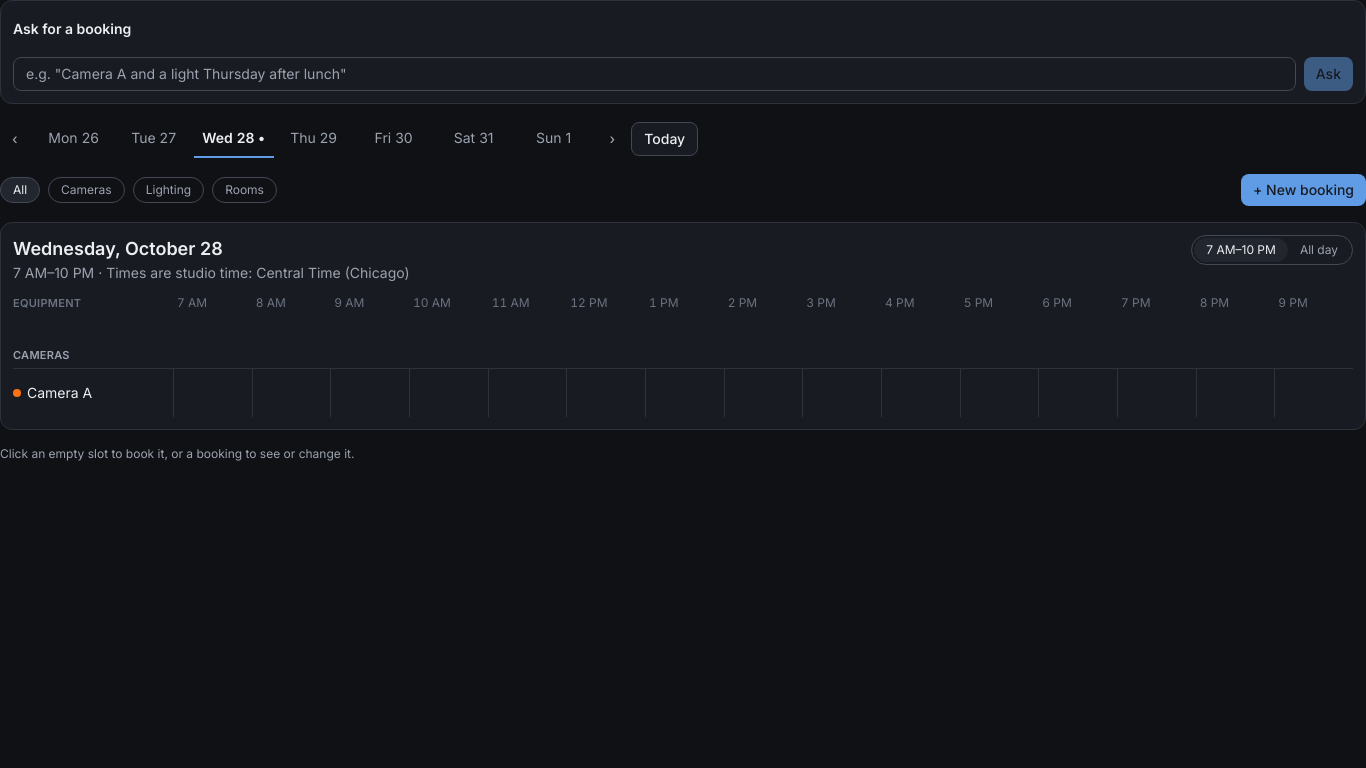
AssistantPanel › records what was booked in the conversation, and drops the button
The image size is (1366, 768).
Type "Camera A Thursday 1 to 3 for an interview" into the field named "Ask the booking assistant" at (654, 74), box [13,57,1296,91]
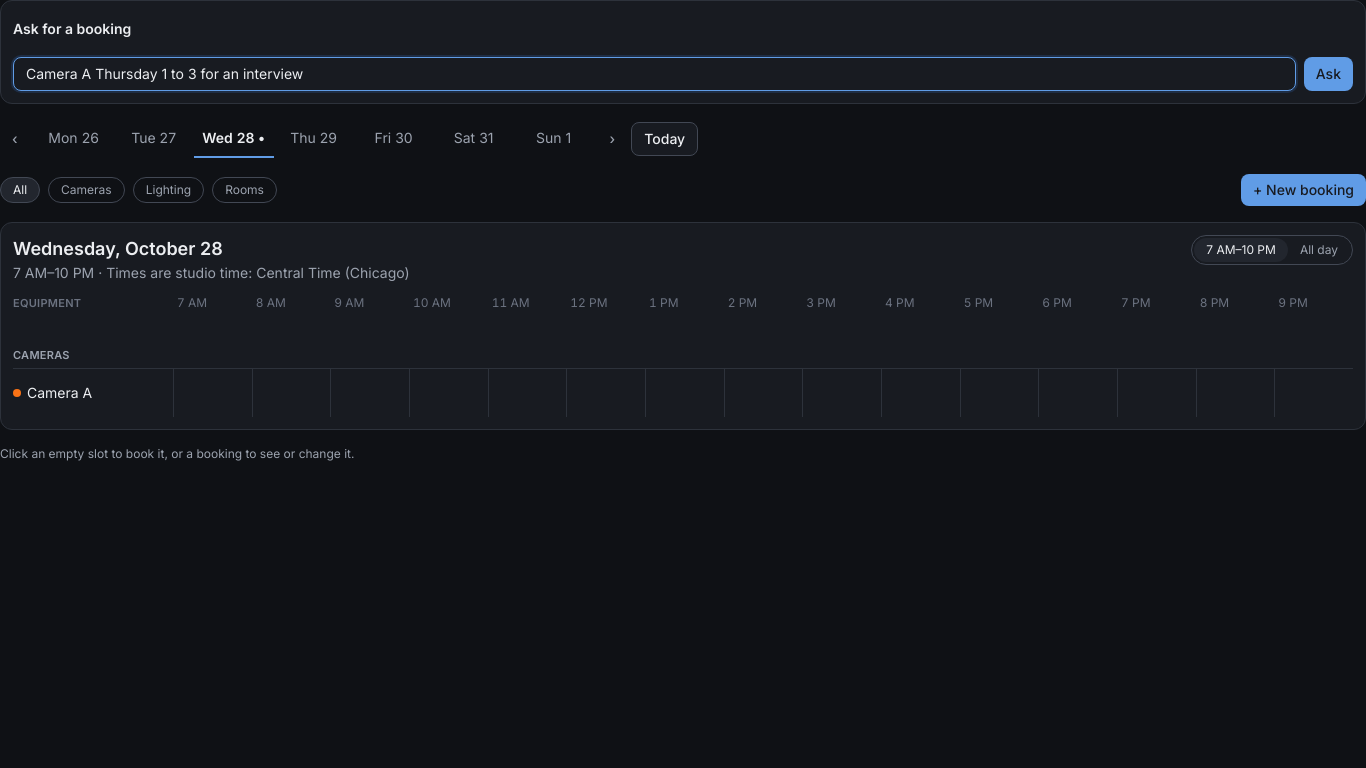
Click the button "Ask" at (1328, 74), box [1304,57,1353,91]
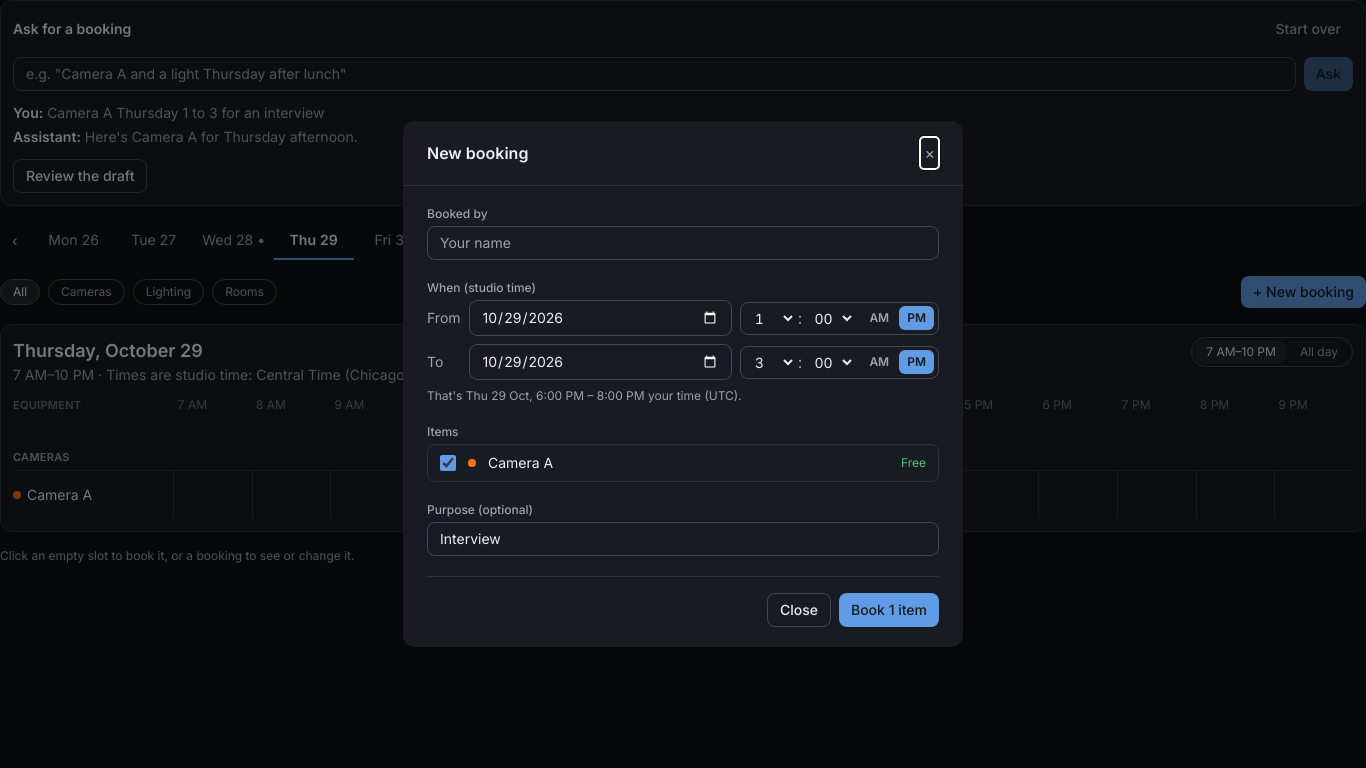
Type "Sam K" into the field named "Booked by" at (683, 243), box [427,226,939,260]
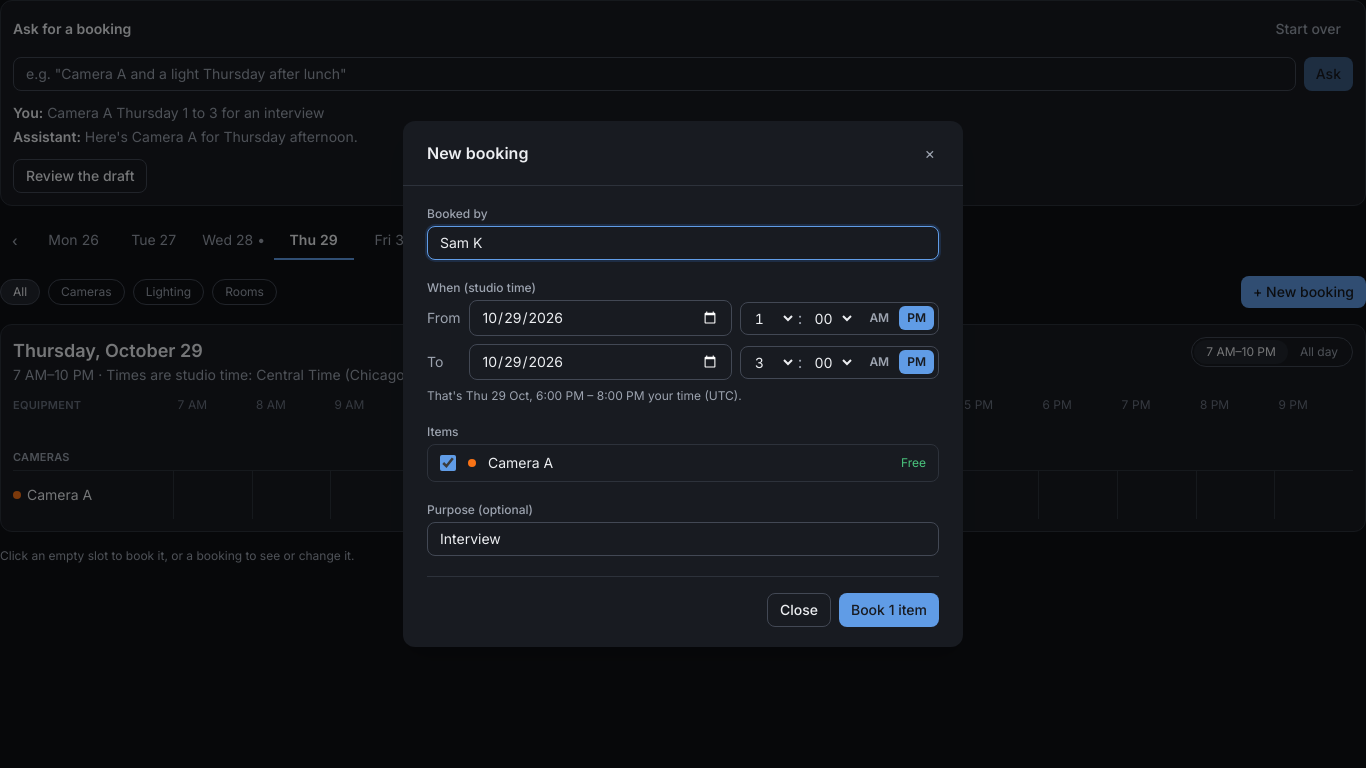
Replace the text in the field named "Purpose" with "Interview with Ana" at (683, 539), box [427,522,939,556]
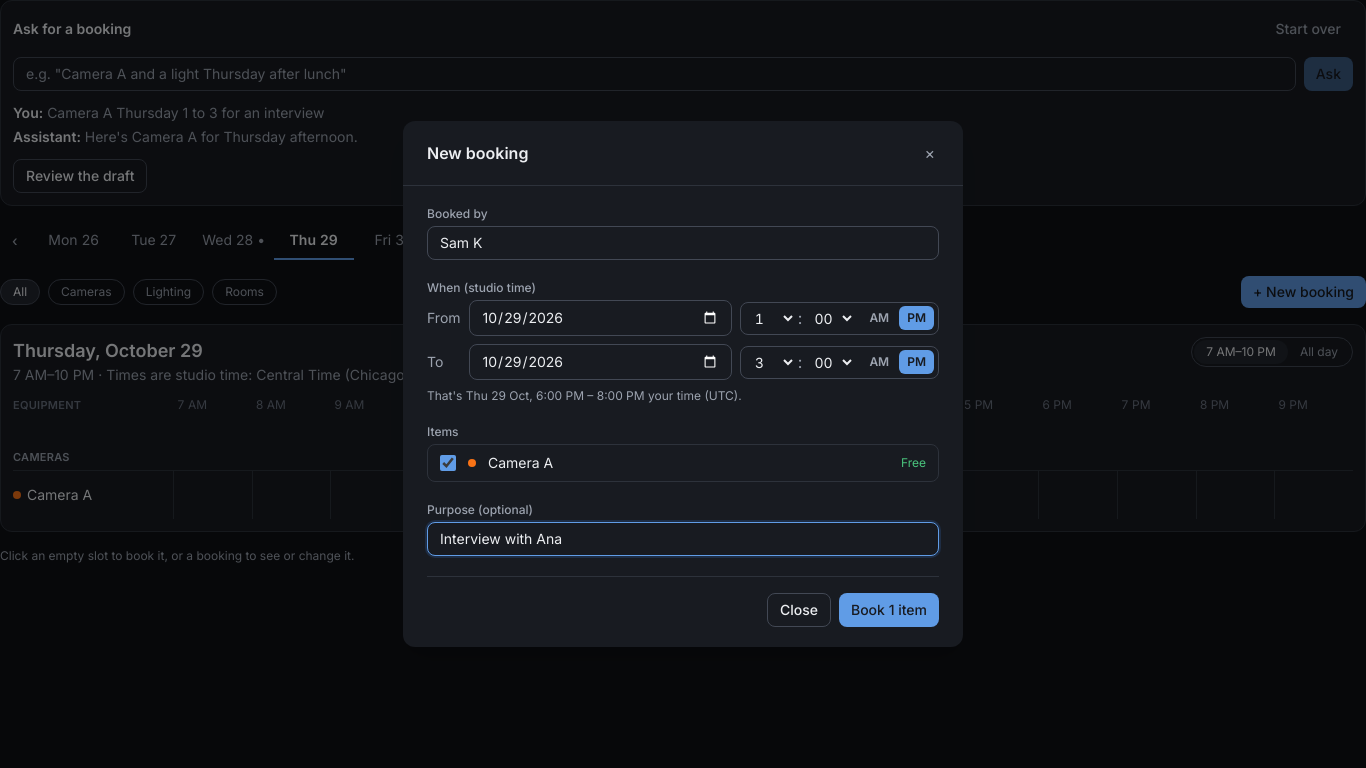
Click the button "Book 1 item" at (889, 610), box [839,593,939,627]
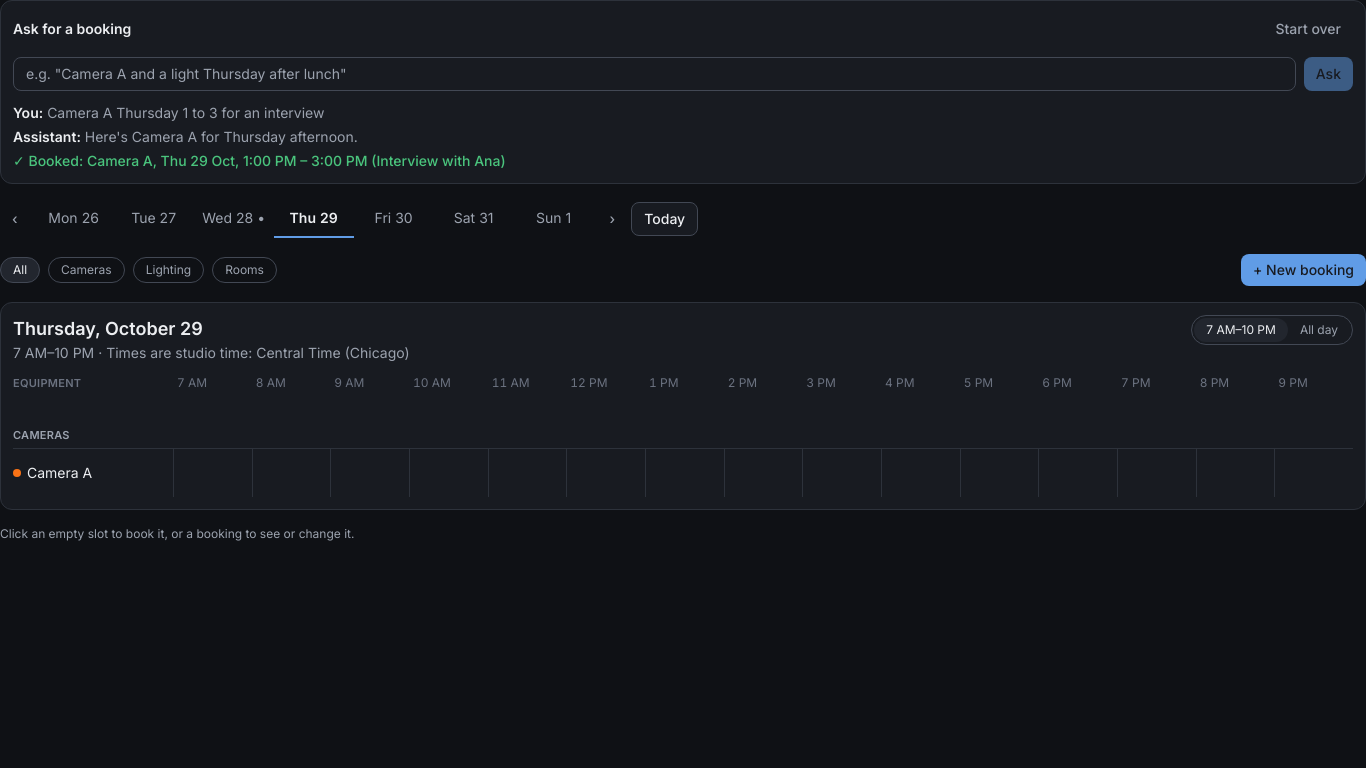
Expected: the text "✓ Booked: Camera A, Thu 29 Oct, 1:00 PM – 3:00 PM (Interview with Ana)" is shown, [13,152,506,169]
Expected: the button "Review the draft" is gone
